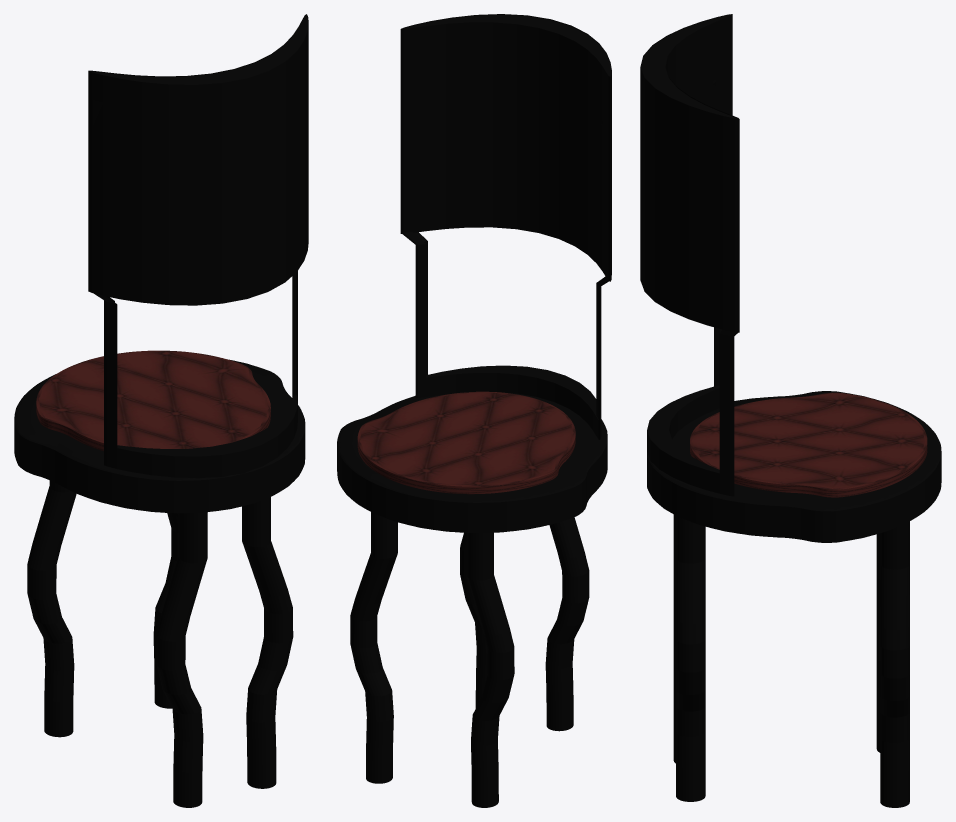
Rendered from CadeiraBar.fbx.
The picture shows the model from 3 angles, left to right: view 1: azimuth 30°, elevation 25°; view 2: azimuth 150°, elevation 25°; view 3: azimuth 270°, elevation 25°; orthographic projection. The views are drawn at different scales.
Parts seen in each view (by area): view 1: Cylinder.009, Cylinder.004, Cylinder, Cylinder.005, Cylinder.006, Cylinder.007, Cylinder.008; view 2: Cylinder.009, Cylinder.004, Cylinder, Cylinder.007, Cylinder.008, Cylinder.005, Cylinder.006; view 3: Cylinder.009, Cylinder.004, Cylinder, Cylinder.006, Cylinder.008, Cylinder.007, Cylinder.005.
Boxes of the visible parts, bbox=[...] form: Cylinder.009: bbox=[88, 14, 308, 478]; Cylinder.004: bbox=[36, 350, 270, 451]; Cylinder: bbox=[14, 359, 305, 513]; Cylinder.005: bbox=[156, 512, 207, 807]; Cylinder.006: bbox=[242, 497, 293, 788]; Cylinder.007: bbox=[27, 480, 76, 737]; Cylinder.008: bbox=[153, 513, 178, 708]; Cylinder.009: bbox=[400, 14, 611, 439]; Cylinder.004: bbox=[357, 391, 575, 494]; Cylinder: bbox=[337, 392, 607, 532]; Cylinder.007: bbox=[466, 532, 514, 807]; Cylinder.008: bbox=[350, 512, 397, 783]; Cylinder.005: bbox=[545, 517, 589, 731]; Cylinder.006: bbox=[460, 532, 487, 708]; Cylinder.009: bbox=[640, 14, 739, 496]; Cylinder.004: bbox=[690, 392, 927, 497]; Cylinder: bbox=[647, 391, 941, 542]; Cylinder.006: bbox=[676, 515, 705, 801]; Cylinder.008: bbox=[880, 521, 909, 807]; Cylinder.007: bbox=[876, 533, 880, 752]; Cylinder.005: bbox=[673, 514, 675, 763].
Bounding box in the file's own units: 145 × 400 × 154.
Materials: 2 (1 with a texture image).
